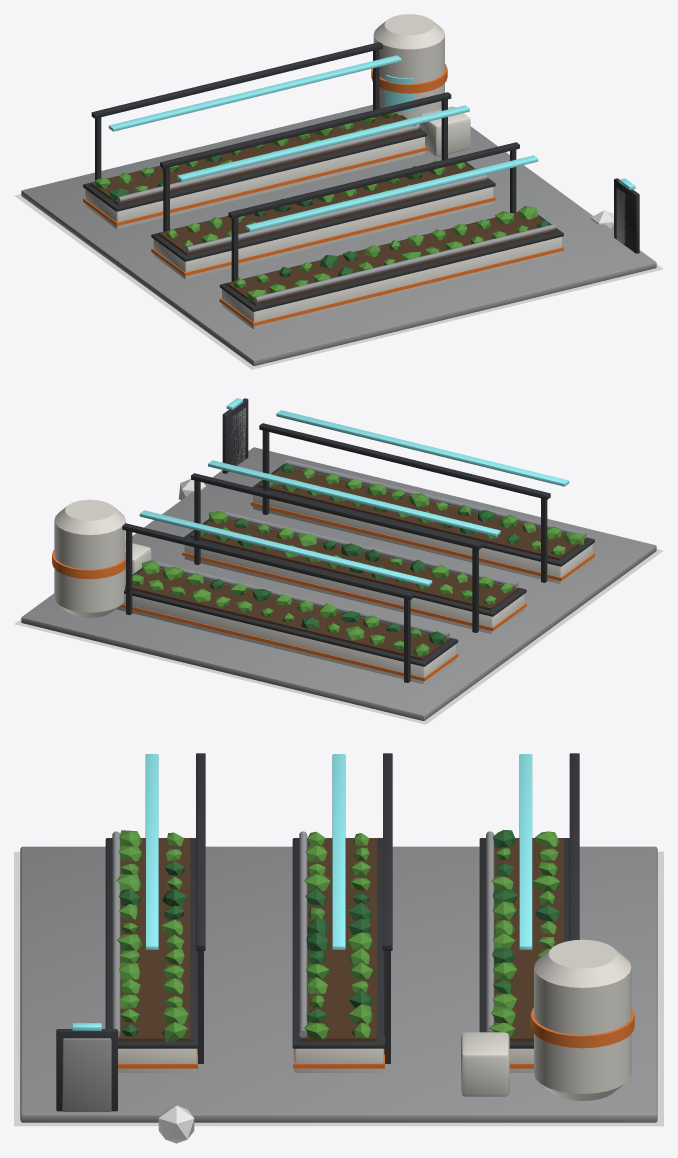
File: farm_2x2.gltf
The picture shows the model from 3 angles, top to bottom: view 1: azimuth 30°, elevation 25°; view 2: azimuth 150°, elevation 25°; view 3: azimuth 270°, elevation 25°; orthographic projection. The views are drawn at different scales.
Parts seen in each view (by area): view 1: HydroponicFarm, %P%Footprint; view 2: HydroponicFarm, %P%Footprint; view 3: HydroponicFarm, %P%Footprint, %P%AnchorIn.
Part boxes in pixels (bbox=[...]): HydroponicFarm: bbox=[21, 14, 656, 365]; %P%Footprint: bbox=[14, 194, 663, 369]; HydroponicFarm: bbox=[21, 398, 656, 720]; %P%Footprint: bbox=[14, 549, 663, 724]; HydroponicFarm: bbox=[20, 753, 657, 1122]; %P%Footprint: bbox=[14, 851, 663, 1126]; %P%AnchorIn: bbox=[158, 1105, 194, 1143].
Size of the model in its own units: 4.12 by 1.15 by 4.
